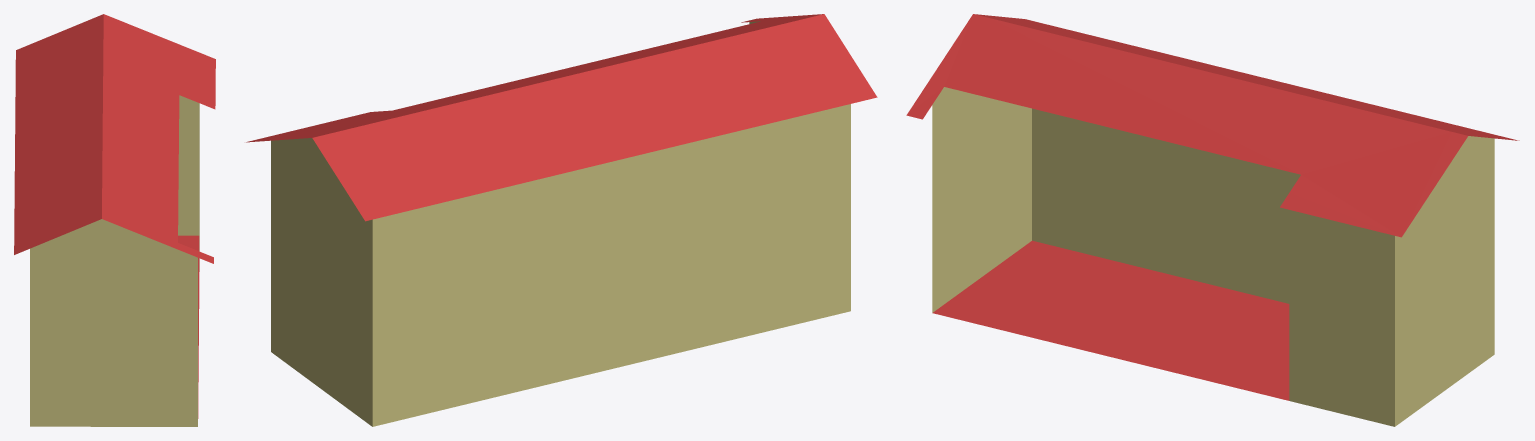
The picture shows the model from 3 angles, left to right: view 1: azimuth 30°, elevation 25°; view 2: azimuth 150°, elevation 25°; view 3: azimuth 270°, elevation 25°; orthographic projection. The views are drawn at different scales.
Size of the model in its own units: 19.53 by 24.34 by 11.09.
